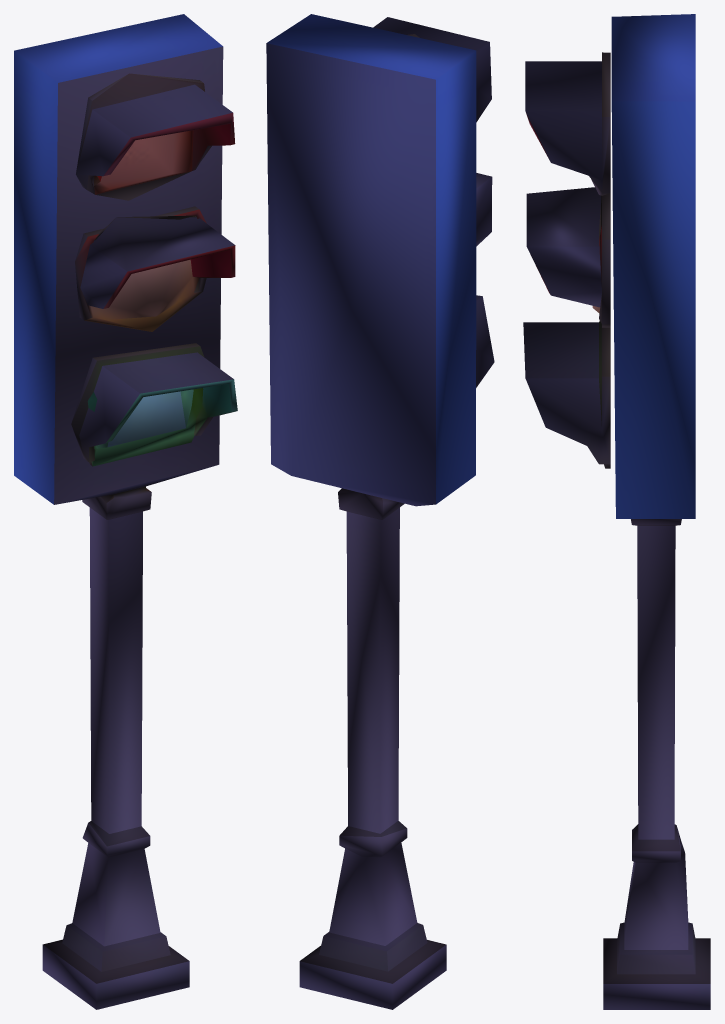
The model's file is model.progressive.glb.
3 views of the same model, side by side, from view 1: azimuth 30°, elevation 25°; view 2: azimuth 150°, elevation 25°; view 3: azimuth 270°, elevation 25° (orthographic).
Parts seen in each view (by area): view 1: material; view 2: material; view 3: material.
Part boxes in pixels (bbox=[...]): material: bbox=[14, 14, 237, 1009]; material: bbox=[266, 14, 494, 1009]; material: bbox=[523, 14, 710, 1009].
Bounding box in the file's own units: 0.3593 × 1.89 × 0.3436.
1 material, 1 textured.
